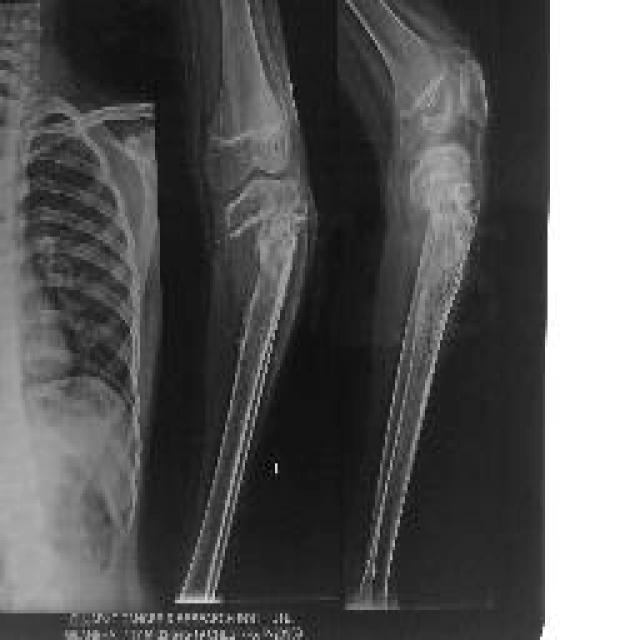bone-cancer: (405, 143, 480, 381), (232, 197, 315, 372)
